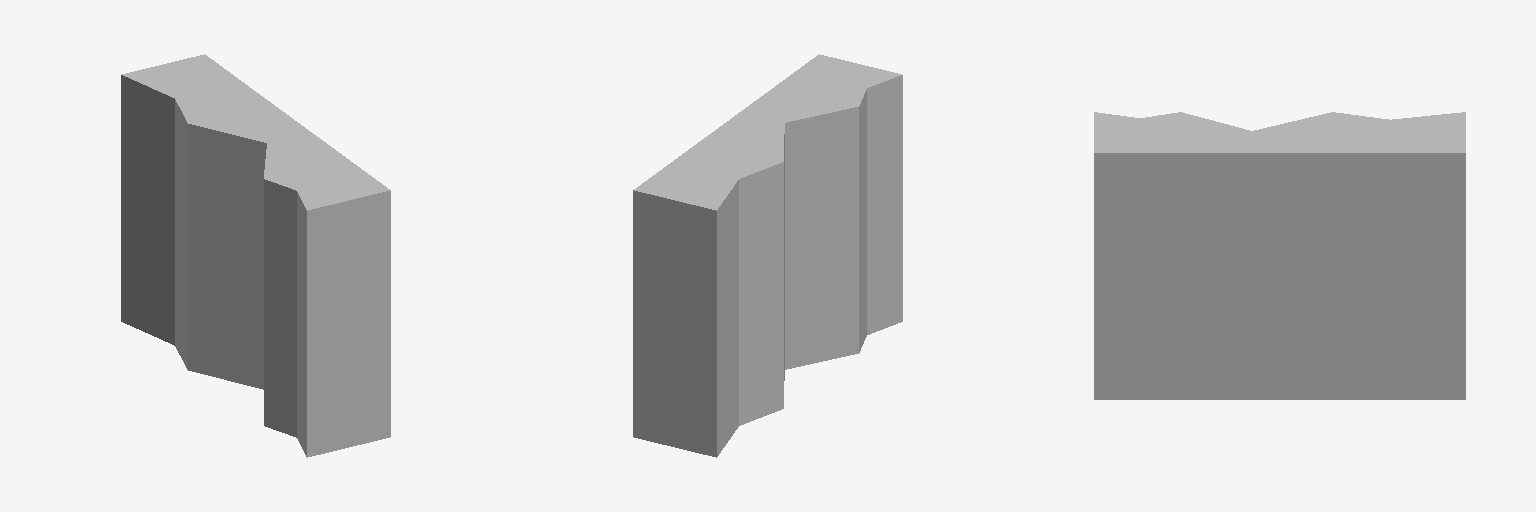
File: Brown_Cliff_01.obj
3 renders of one model, left to right at view 1: azimuth 30°, elevation 25°; view 2: azimuth 150°, elevation 25°; view 3: azimuth 270°, elevation 25°, orthographic.
Parts seen in each view (by area): view 1: Mesh1_Brown_Cliff_Model; view 2: Mesh1_Brown_Cliff_Model; view 3: Mesh1_Brown_Cliff_Model.
Part boxes in pixels (x1,y1,x2,y2): Mesh1_Brown_Cliff_Model: (121, 54, 390, 457); Mesh1_Brown_Cliff_Model: (633, 54, 902, 457); Mesh1_Brown_Cliff_Model: (1094, 112, 1465, 399).
Size of the model in its own units: 0.78 by 2.2 by 3.